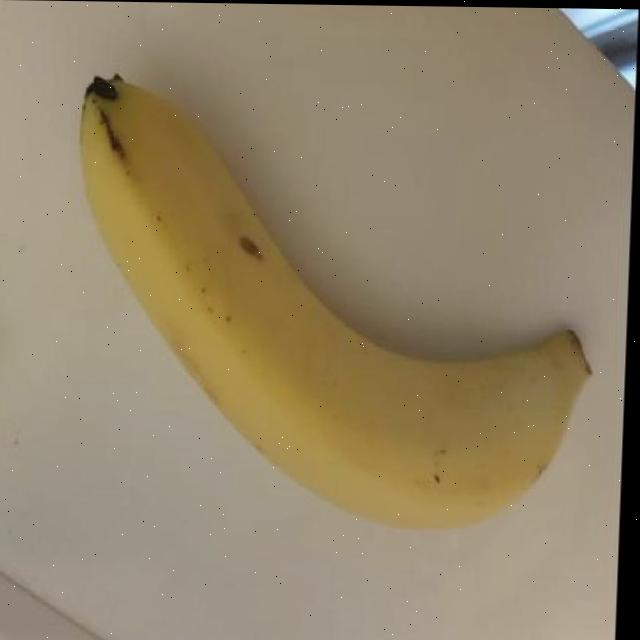banana: (60, 56, 604, 546)
